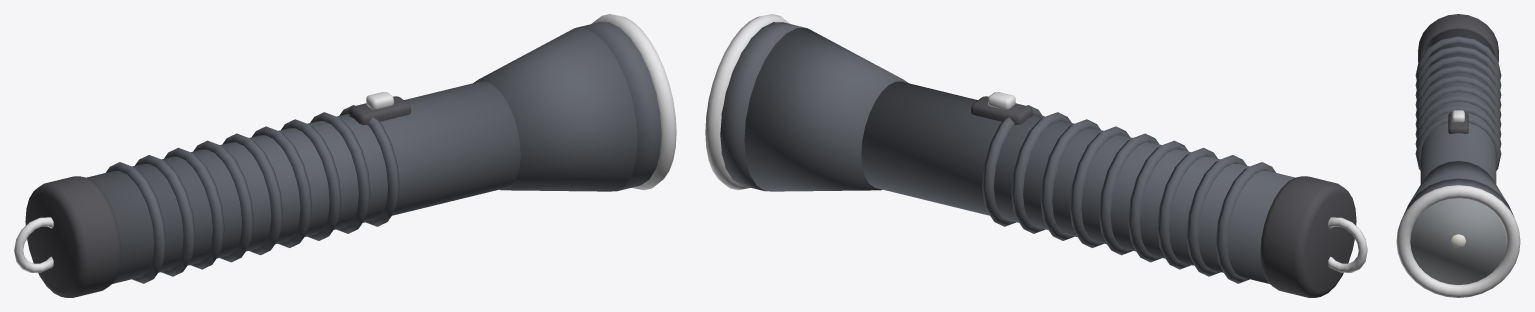
The model's file is Flashlight.glb.
3 views of the same model, side by side, from view 1: azimuth 30°, elevation 25°; view 2: azimuth 150°, elevation 25°; view 3: azimuth 270°, elevation 25° (orthographic). The views are drawn at different scales.
Parts seen in each view (by area): view 1: Flashlight; view 2: Flashlight; view 3: Flashlight.
Part boxes in pixels (x1=…): Flashlight: x1=14, y1=14, x2=676, y2=297; Flashlight: x1=705, y1=14, x2=1367, y2=297; Flashlight: x1=1396, y1=14, x2=1520, y2=297.
Size of the model in its own units: 0.851 by 0.214 by 0.214.
1 material, 1 textured.
